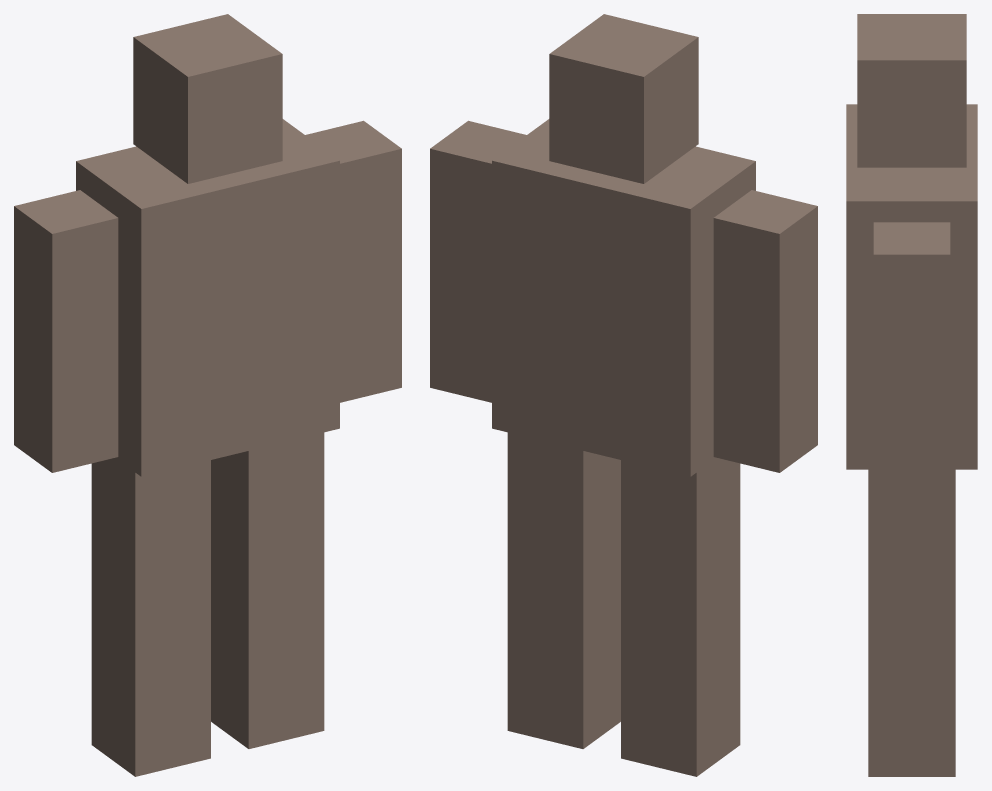
File: blacksmith.glb
3 renders of one model, left to right at view 1: azimuth 30°, elevation 25°; view 2: azimuth 150°, elevation 25°; view 3: azimuth 270°, elevation 25°, orthographic.
Visible parts, largest first — view 1: blacksmith; view 2: blacksmith; view 3: blacksmith.
Part boxes in pixels (x1,y1,x2,y2): blacksmith: (14,14,401,776); blacksmith: (430,14,817,776); blacksmith: (846,14,977,776).
Bounding box in the file's own units: 0.888 × 1.68 × 0.288.
